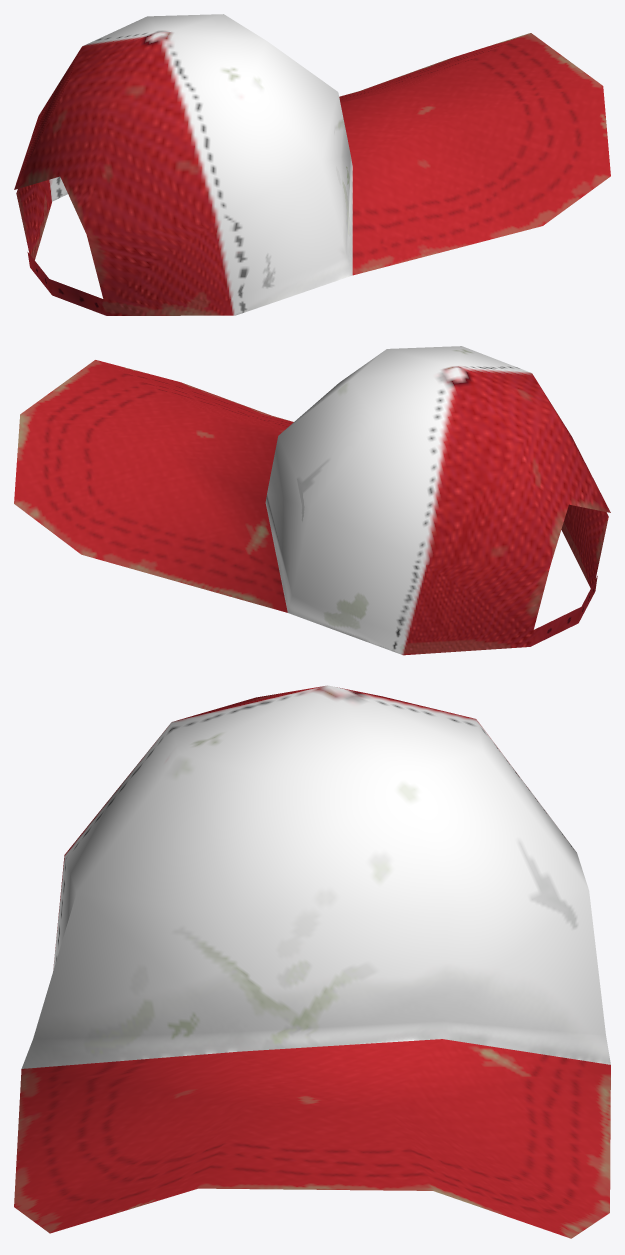
The model's file is capHat.glb.
3 renders of one model, top to bottom at view 1: azimuth 30°, elevation 25°; view 2: azimuth 150°, elevation 25°; view 3: azimuth 270°, elevation 25°, orthographic. The views are drawn at different scales.
Visible parts, largest first — view 1: Plane.001; view 2: Plane.001; view 3: Plane.001.
Boxes of the visible parts, x1=… form: Plane.001: x1=14, y1=14, x2=610, y2=315; Plane.001: x1=14, y1=346, x2=610, y2=655; Plane.001: x1=14, y1=685, x2=610, y2=1238.
Size of the model in its own units: 1.38 by 0.5882 by 0.857.
Materials: 1 (1 with a texture image).
